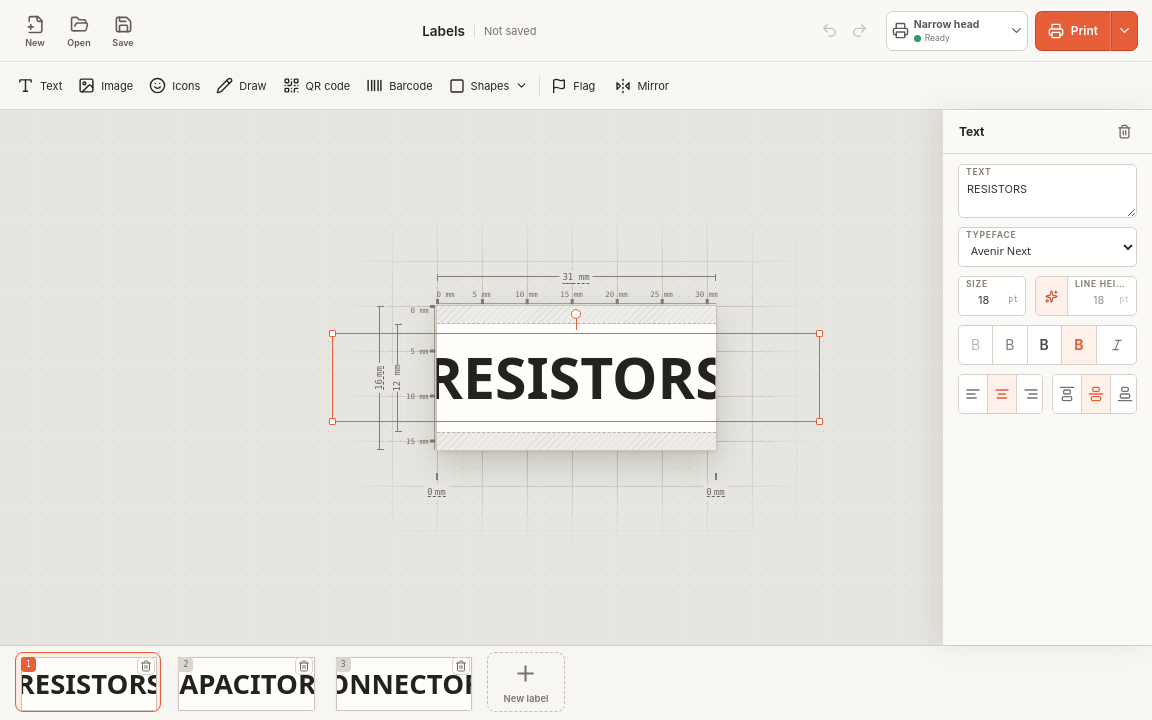
LabelmakerApp › uses the selected printer printable width
Expected: the text "Narrow head" is shown, [914,18,980,31]
Expected: the element with class "dimension-ruler-printable-height" reads "12 mm", [396,324,410,432]
Click the button with aria-label "Selected printer: Narrow head". click: (957, 30)
box: [886,10,1028,50]
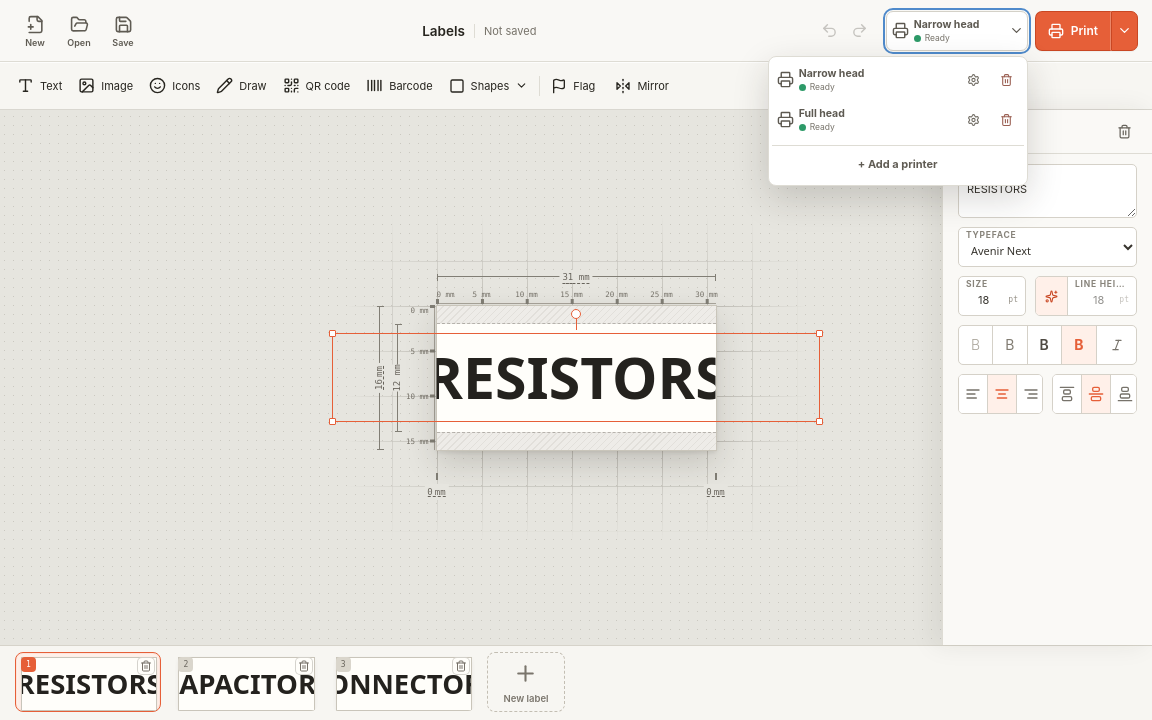
Click the menu item "Full head Ready". click: (898, 120)
box: [772,100,1024,140]
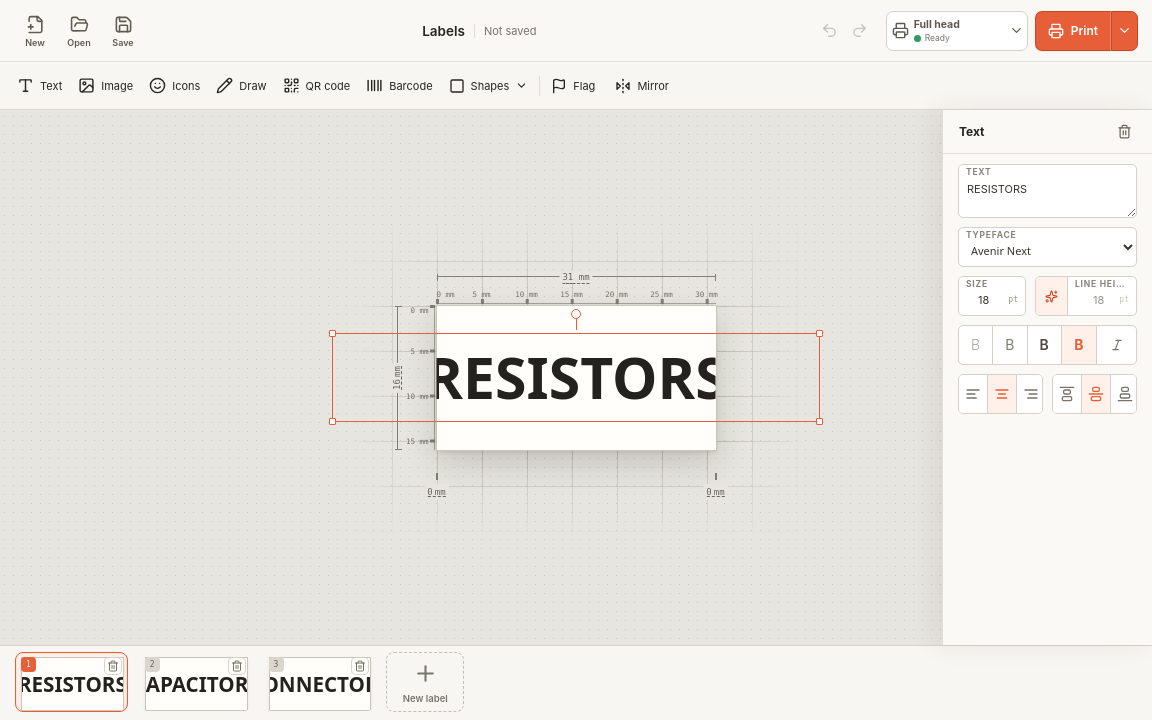
Expected: the number field named "Plate height" holds "16", [388,363,404,392]
Expected: the element with class "dimension-ruler-printable-height" is gone
